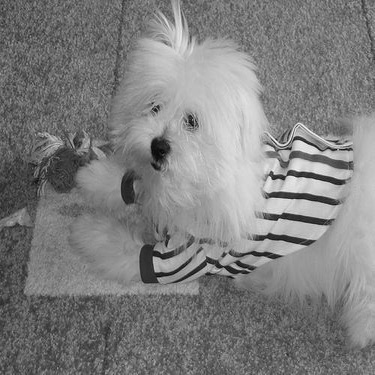dog: (52, 1, 374, 355)
